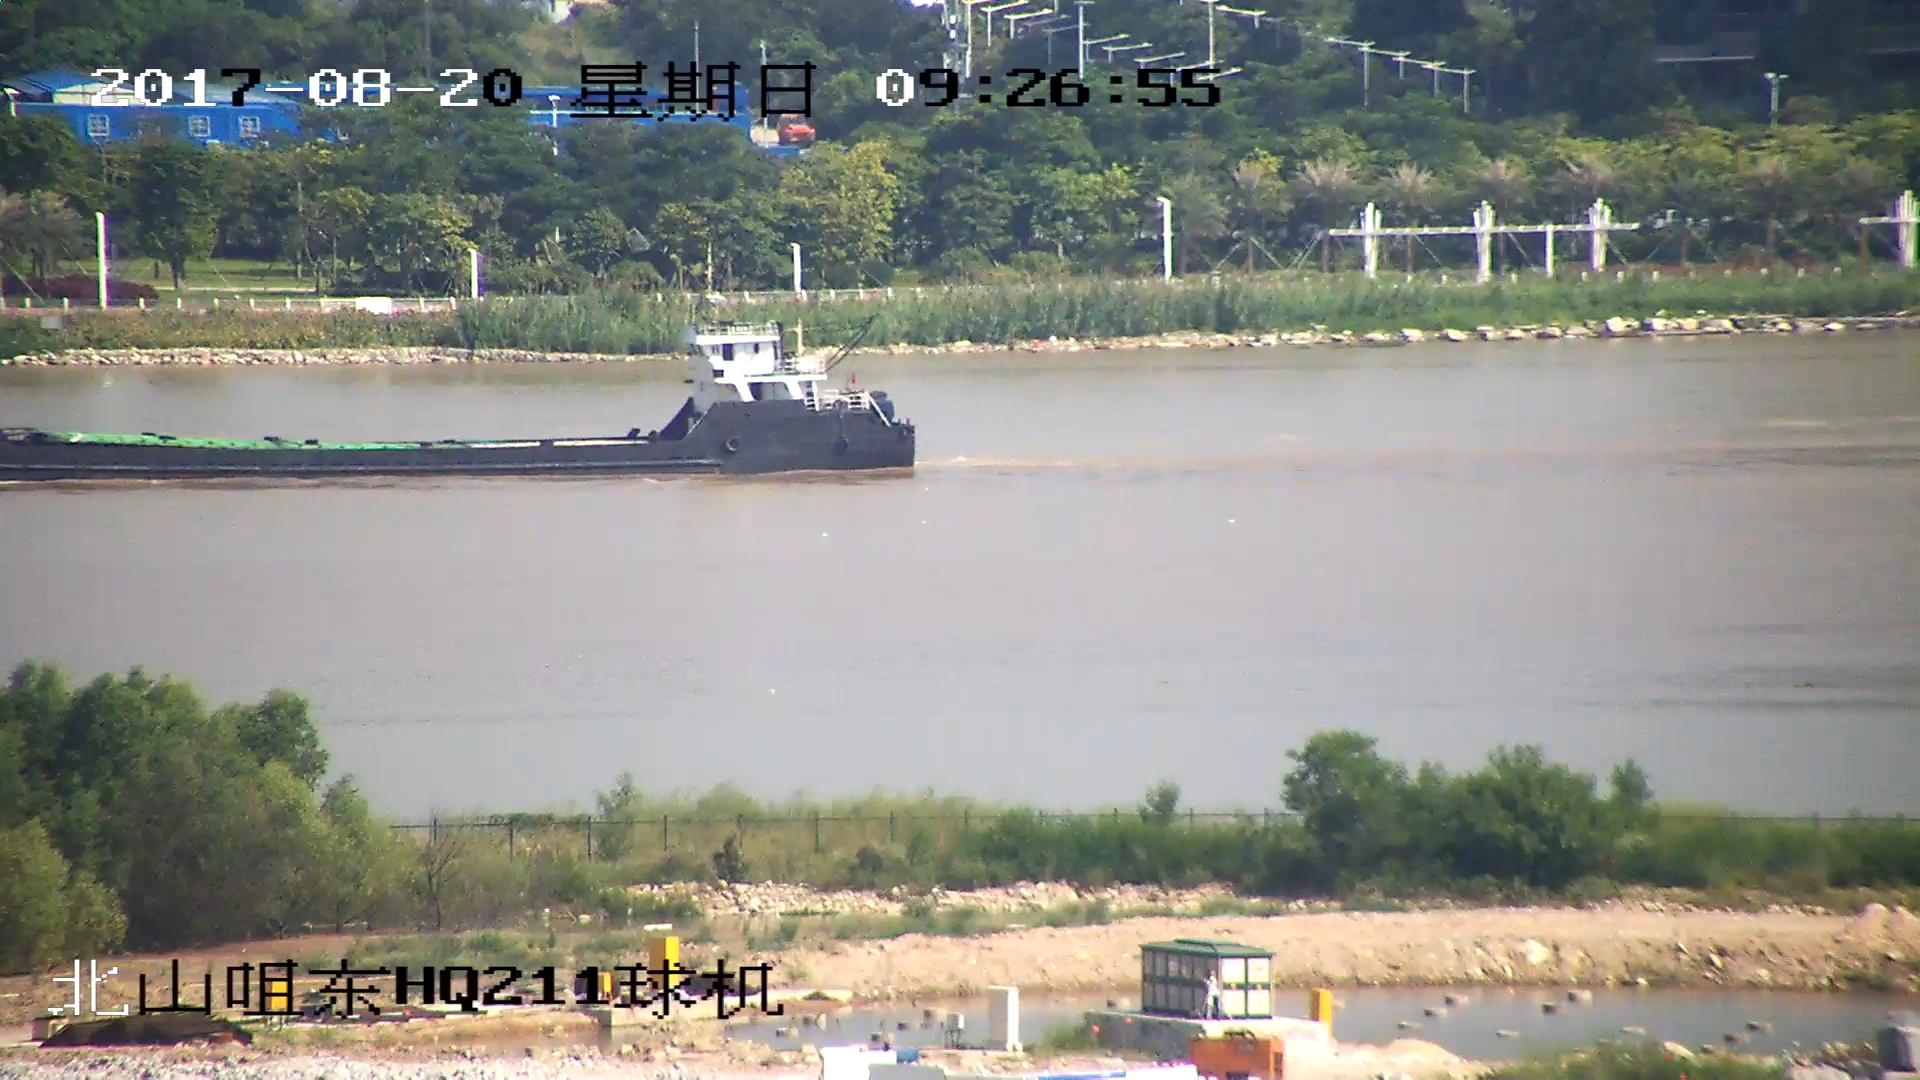general cargo ship: (1, 318, 917, 486)
